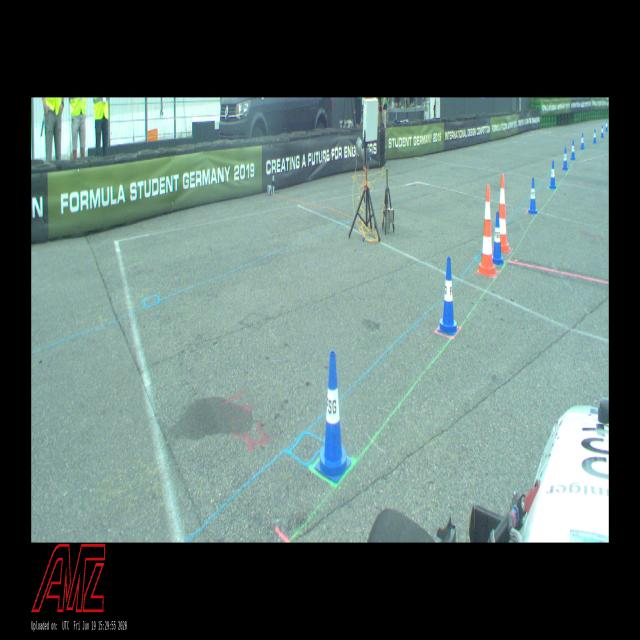blue_cone: (315, 351, 352, 483), (438, 258, 458, 336), (493, 212, 503, 264), (528, 178, 538, 214), (550, 160, 556, 188), (570, 140, 576, 160), (563, 147, 568, 170), (580, 133, 584, 149), (600, 124, 604, 138), (593, 129, 596, 143), (605, 120, 608, 132)
large_orange_cone: (477, 184, 498, 277), (499, 173, 510, 253)
